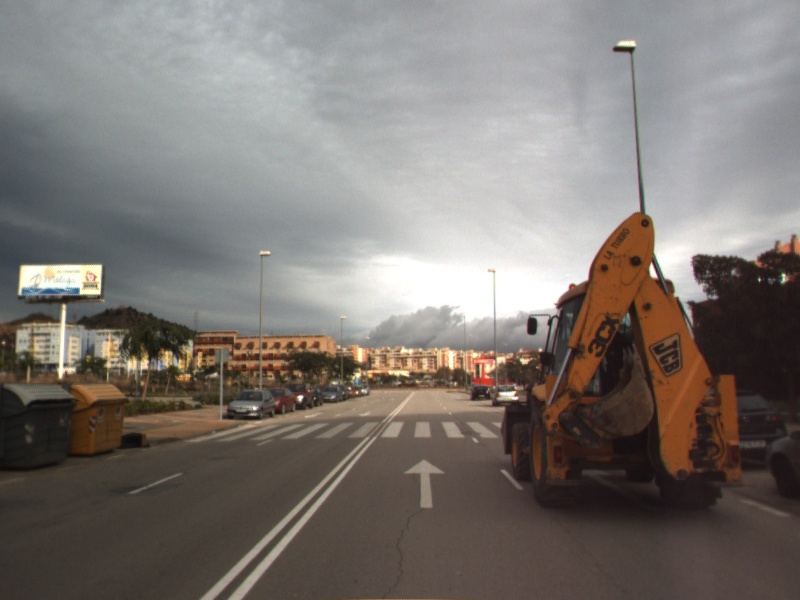STRAIGHT: (579, 467, 662, 513), (401, 456, 448, 510)
